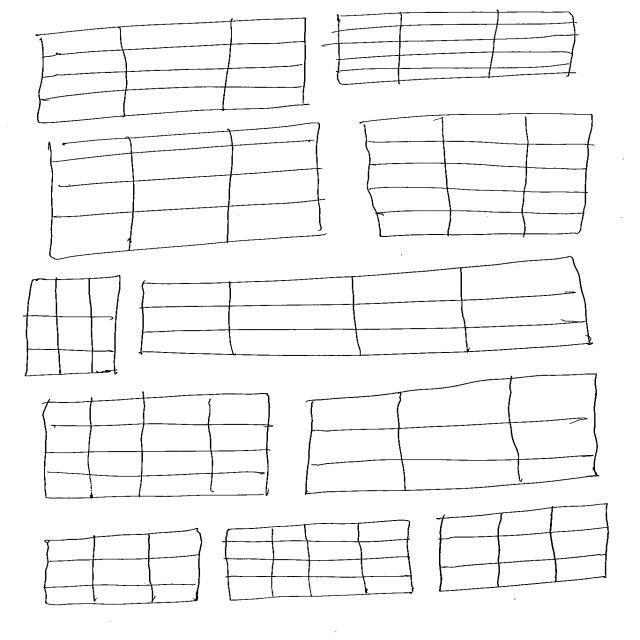table: (151, 255, 594, 352), (47, 122, 327, 264), (303, 371, 602, 498), (360, 109, 599, 239), (34, 16, 310, 127), (40, 392, 273, 502), (334, 10, 580, 88), (435, 502, 614, 595), (224, 519, 417, 605), (41, 528, 207, 608), (22, 274, 125, 382)
